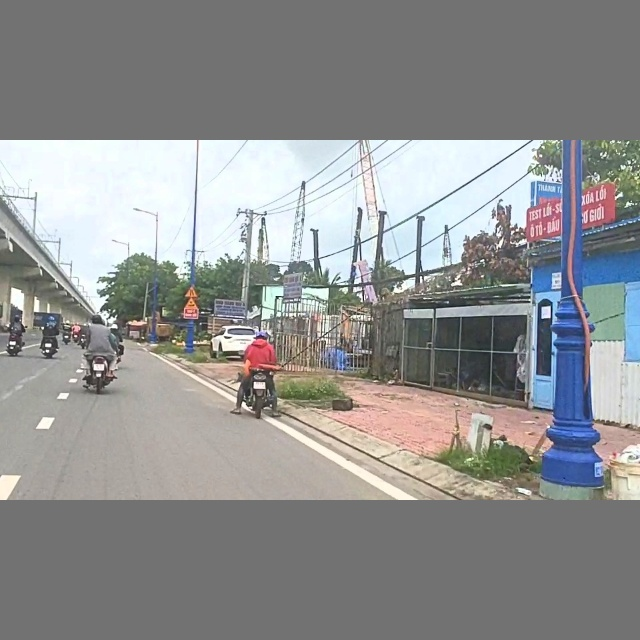W.203c: (185, 285, 199, 297)
W.245a: (185, 297, 199, 309)
